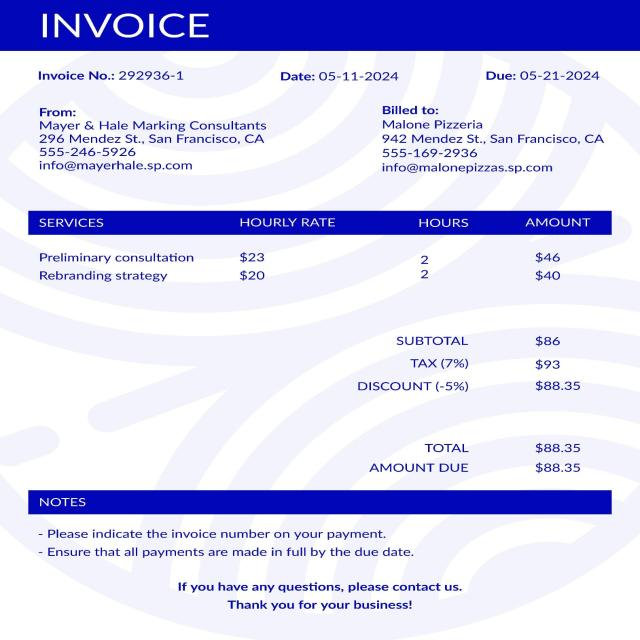paragraph: (28, 488, 421, 563), (28, 107, 287, 190), (368, 101, 614, 186), (341, 323, 596, 402), (159, 570, 474, 613), (348, 437, 604, 479), (20, 0, 224, 46), (32, 60, 195, 88), (266, 62, 418, 88), (475, 63, 610, 90)
table: (14, 208, 608, 289)
